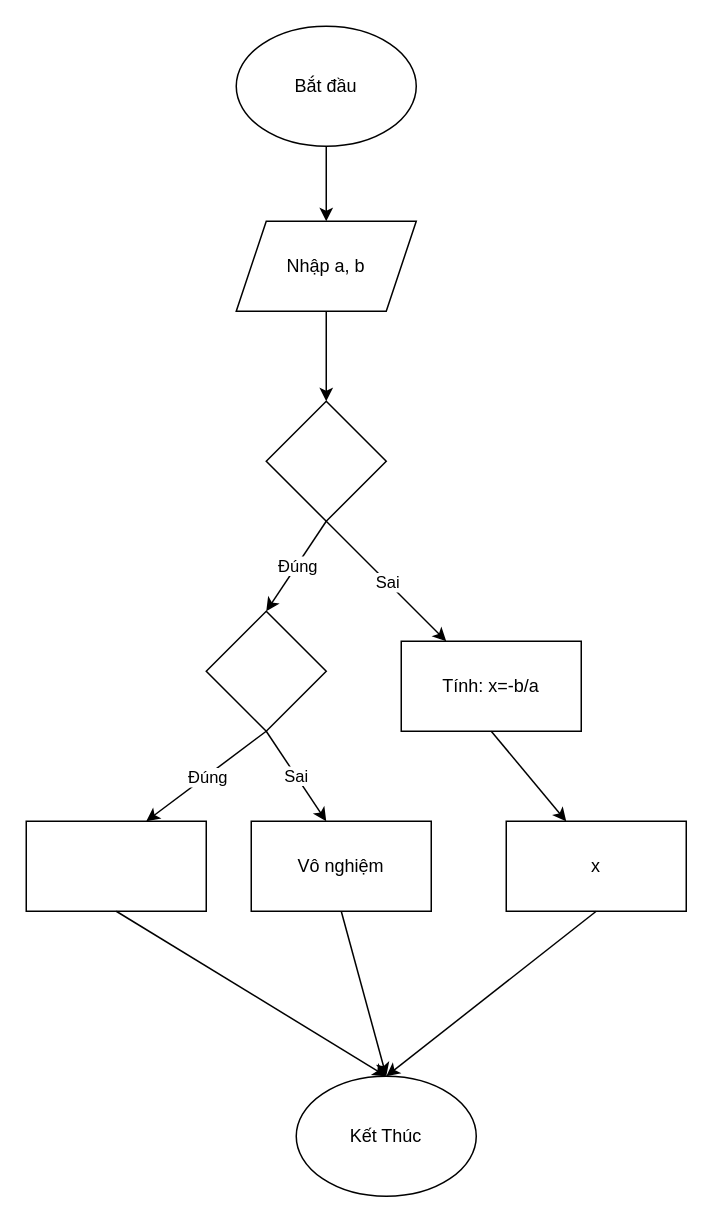
The diagram is 713 pixels wide and 1223 high, and some of its shapes have lost their labels. The shapes that lost their labels are listed below. From the top down, each one's centre as x and y in pixels, then its label:
the point at 325,460: a=0
the point at 265,670: b=0
the point at 115,865: Vô số nghiệm
